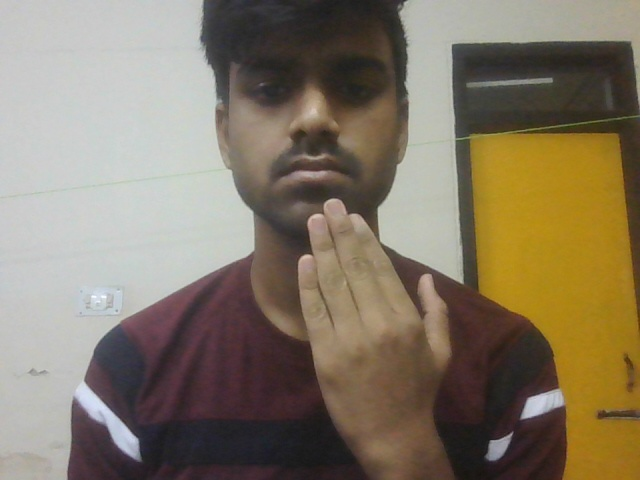thanks: (281, 190, 471, 463)
